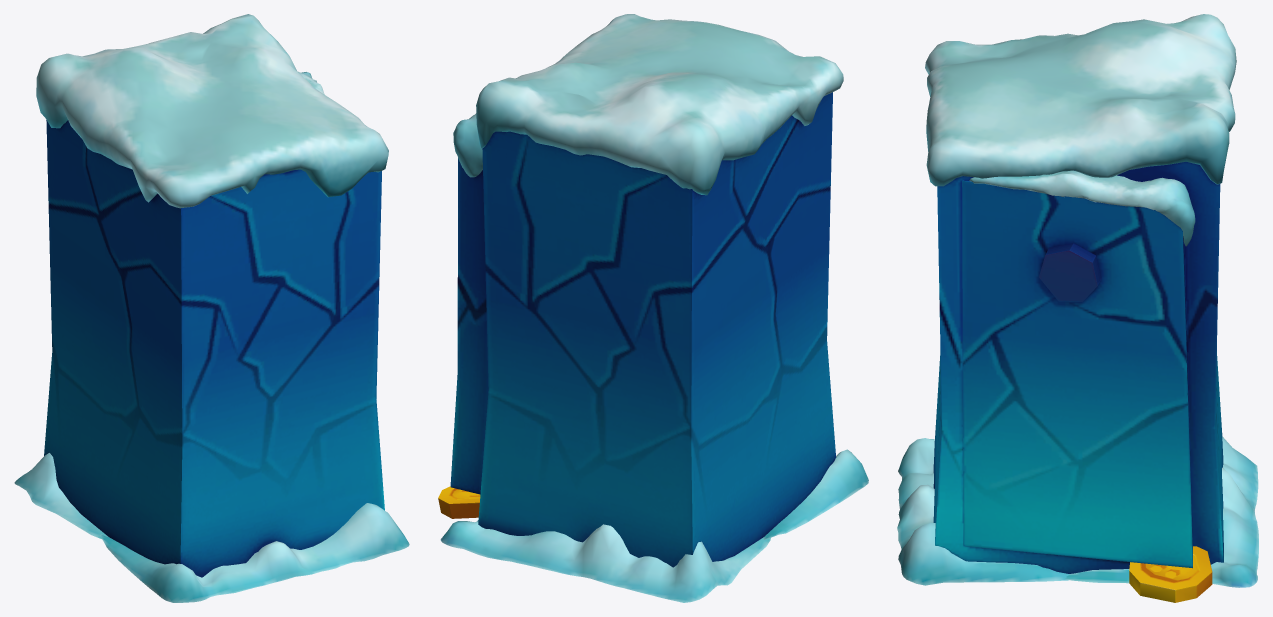
The model's file is Vault Ice.obj.
3 views of the same model, side by side, from view 1: azimuth 30°, elevation 25°; view 2: azimuth 150°, elevation 25°; view 3: azimuth 270°, elevation 25° (orthographic). The views are drawn at different scales.
Visible parts, largest first — view 1: VaultIce1; view 2: VaultIce1; view 3: VaultIce1.
Boxes of the visible parts, bbox=[...] form: VaultIce1: bbox=[14, 14, 409, 602]; VaultIce1: bbox=[438, 14, 868, 602]; VaultIce1: bbox=[897, 14, 1258, 602].
Size of the model in its own units: 8.6 by 12.84 by 8.96.
1 material, 1 textured.
